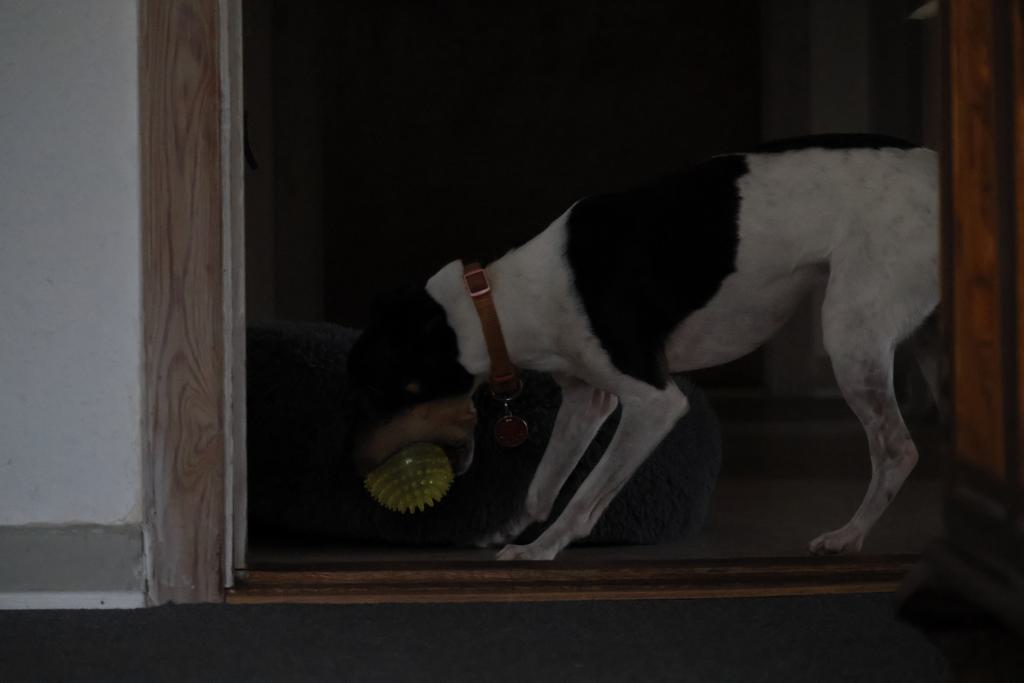Dog: (318, 0, 954, 569)
